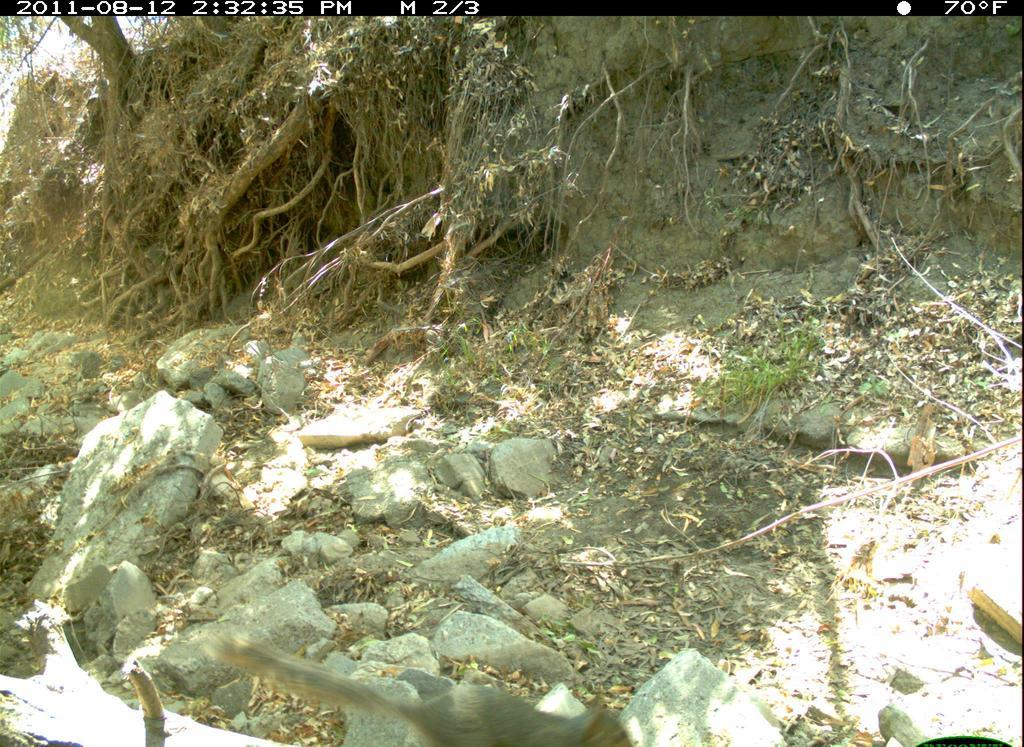squirrel: (190, 614, 651, 747)
